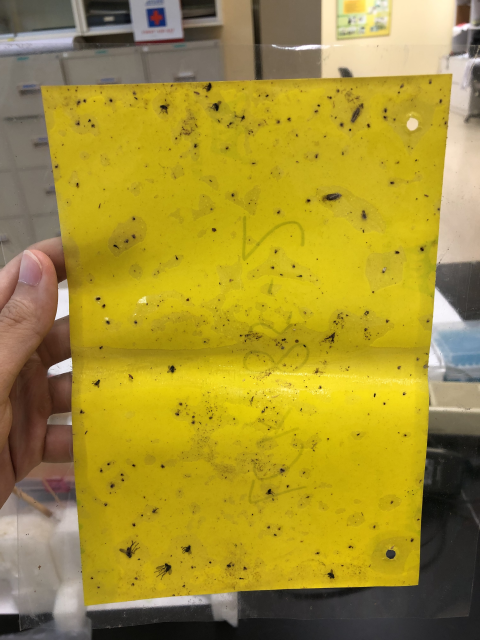DBM: (323, 189, 345, 205)
